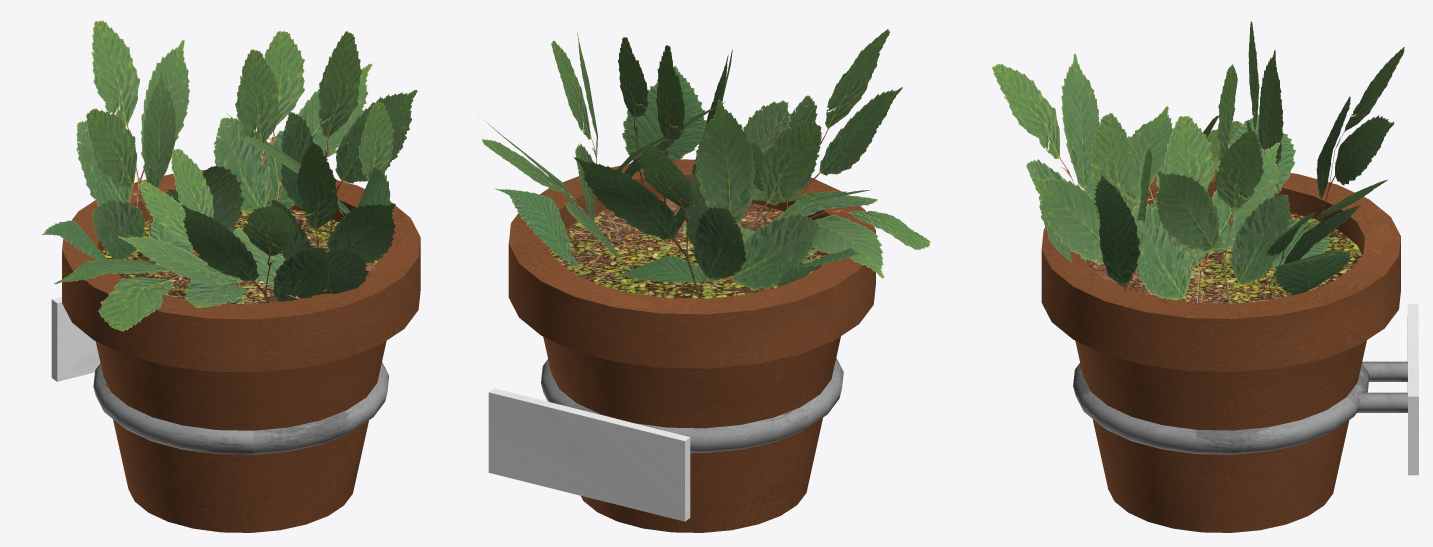
Rendered from Wall Plant 1.fbx.
The picture shows the model from 3 angles, left to right: view 1: azimuth 30°, elevation 25°; view 2: azimuth 150°, elevation 25°; view 3: azimuth 270°, elevation 25°; orthographic projection. The views are drawn at different scales.
Parts seen in each view (by area): view 1: Wall Plant 1; view 2: Wall Plant 1; view 3: Wall Plant 1.
Part boxes in pixels (x1,y1,x2,y2): Wall Plant 1: [42, 20, 420, 532]; Wall Plant 1: [477, 29, 930, 532]; Wall Plant 1: [992, 21, 1418, 532].
Bounding box in the file's own units: 34.67 × 37.01 × 34.79.
